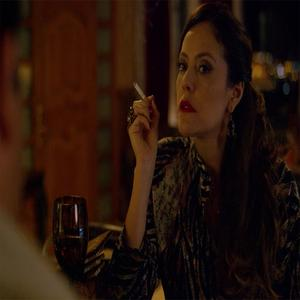cigarette: (131, 83, 151, 103)
